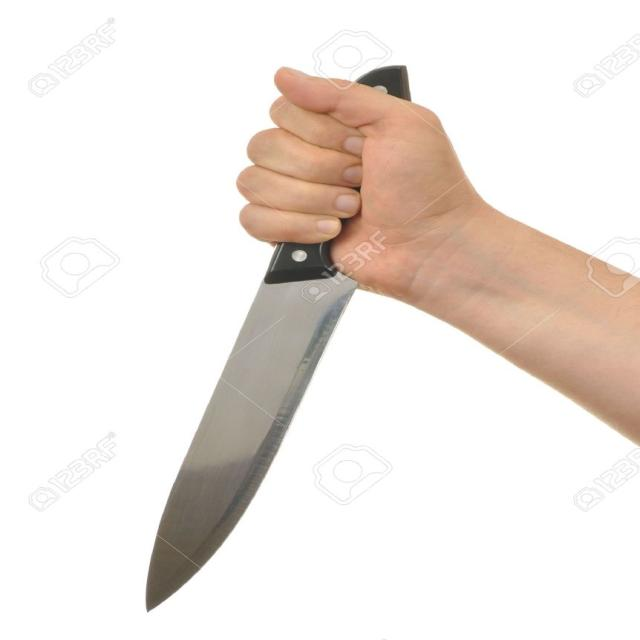knife: (132, 238, 374, 636)
